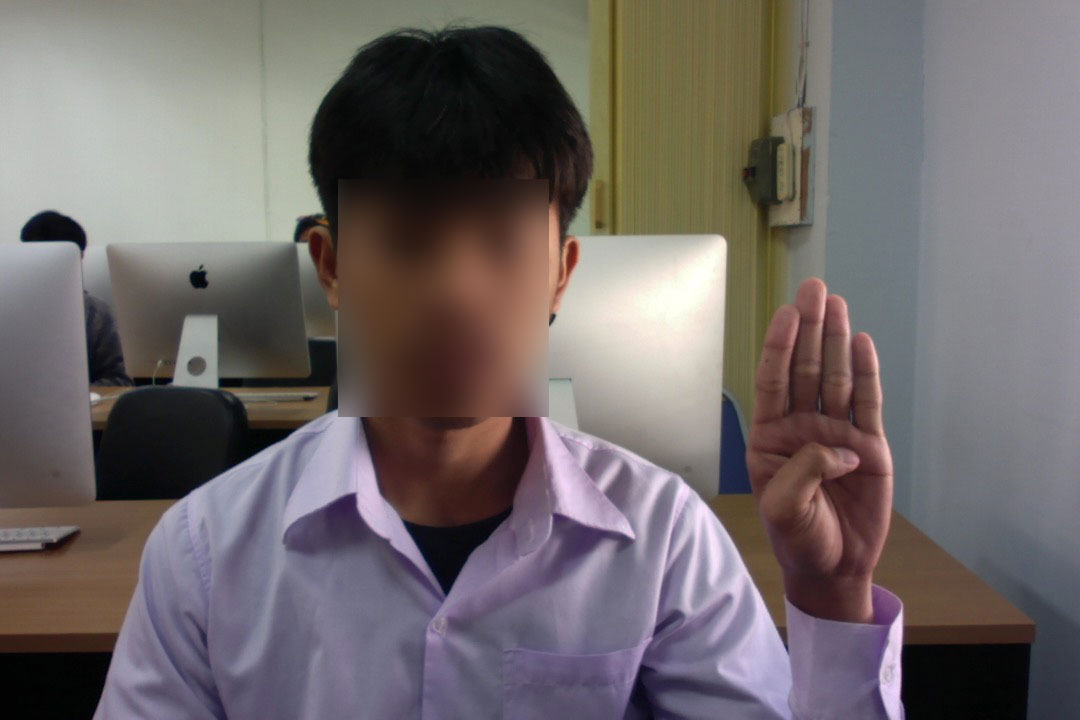bor: (734, 268, 903, 621)
